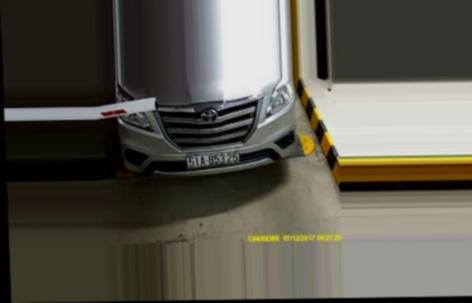License_Plate: (182, 149, 243, 168)
